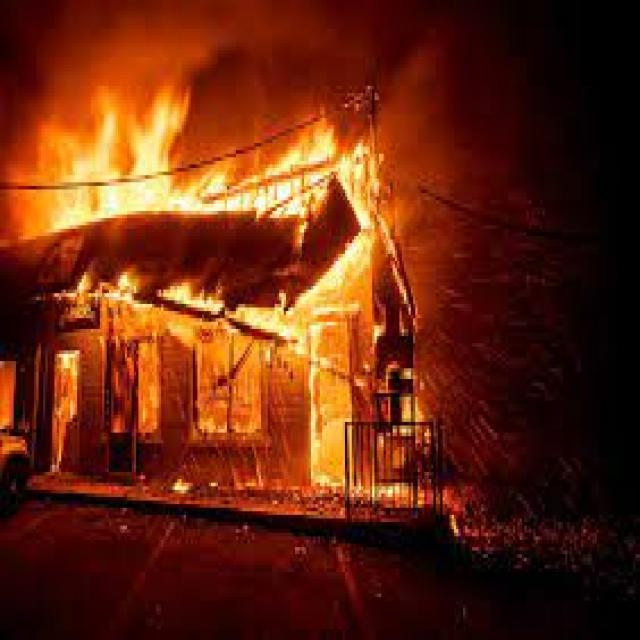Fire: (79, 274, 405, 388), (37, 138, 335, 242)
Smoke: (4, 0, 524, 170)
